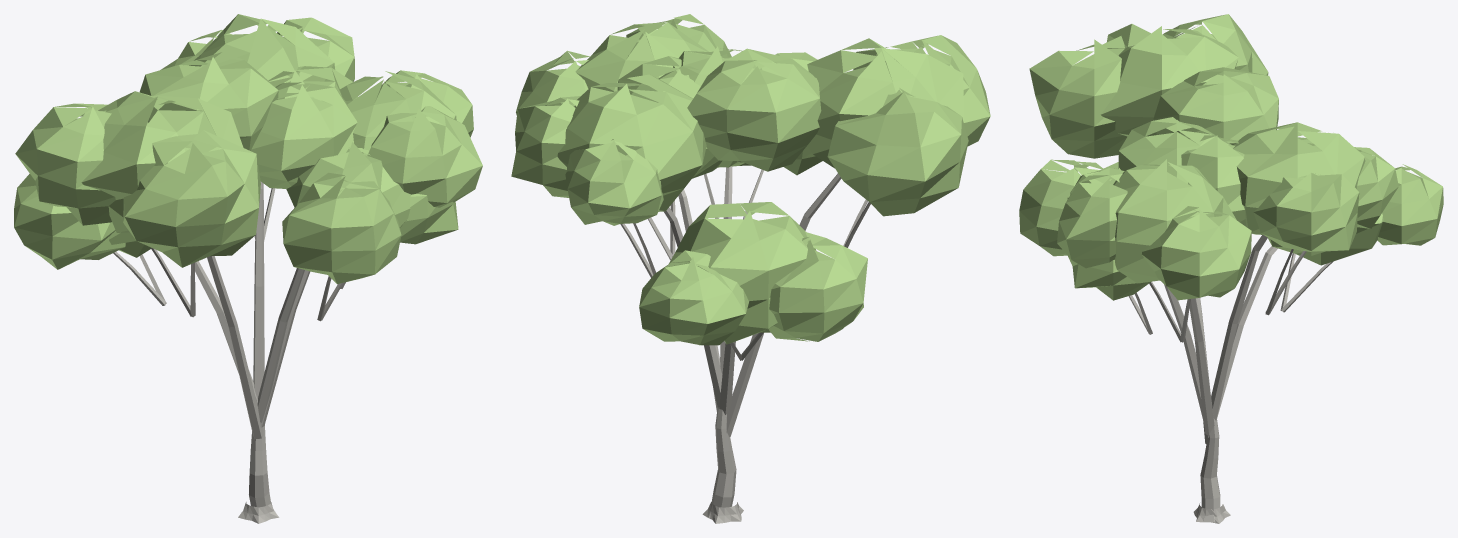
File: maple.glb
The picture shows the model from 3 angles, left to right: view 1: azimuth 30°, elevation 25°; view 2: azimuth 150°, elevation 25°; view 3: azimuth 270°, elevation 25°; orthographic projection. The views are drawn at different scales.
Parts seen in each view (by area): view 1: field-maple-mature; view 2: field-maple-mature; view 3: field-maple-mature.
Part boxes in pixels (x1,y1,x2,y2): field-maple-mature: [14, 14, 482, 523]; field-maple-mature: [511, 14, 990, 523]; field-maple-mature: [1019, 14, 1443, 523].
Size of the model in its own units: 9.89 by 10.29 by 9.13.
